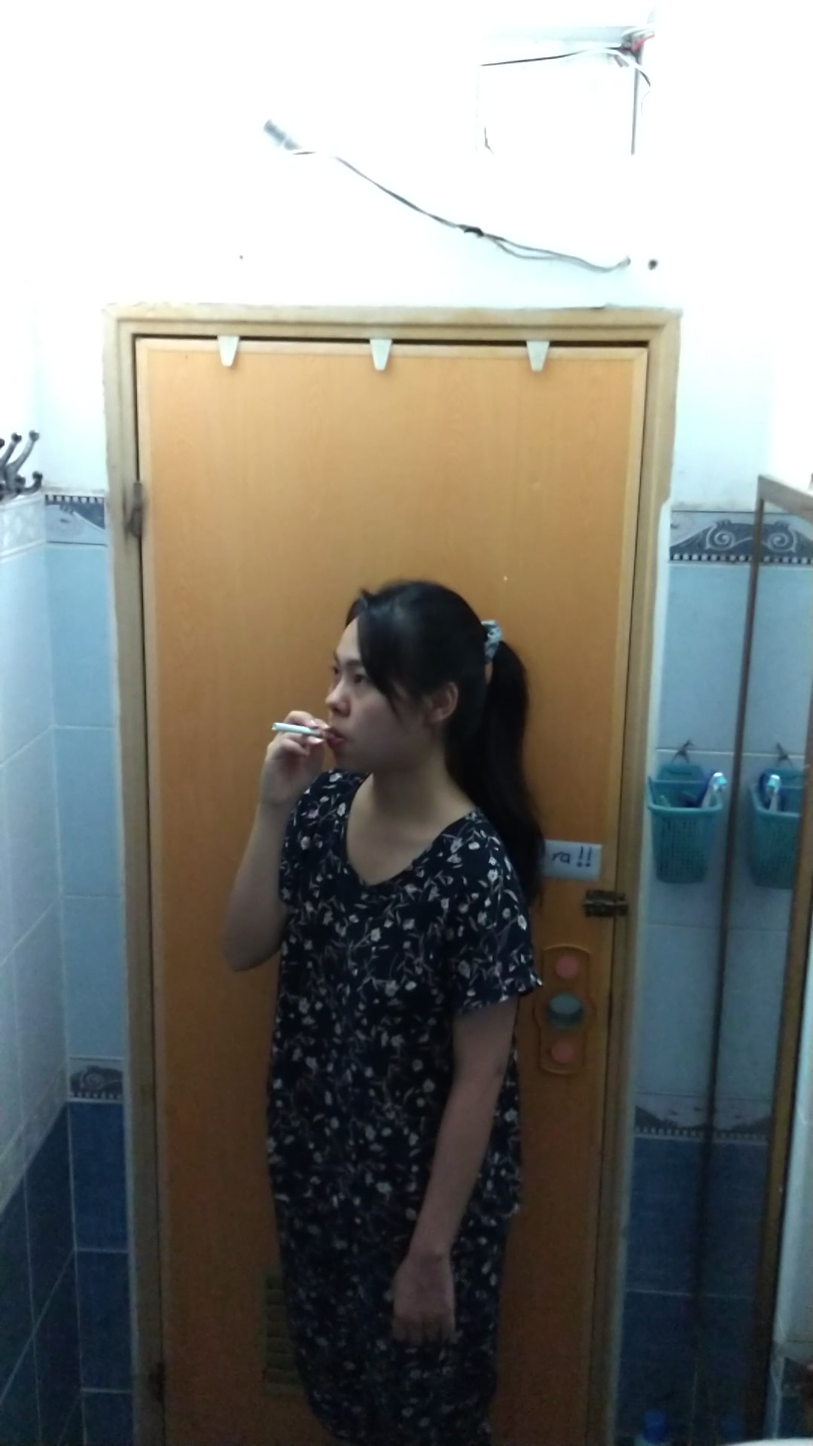cigarette: (266, 720, 315, 739)
person: (218, 565, 556, 1432)
